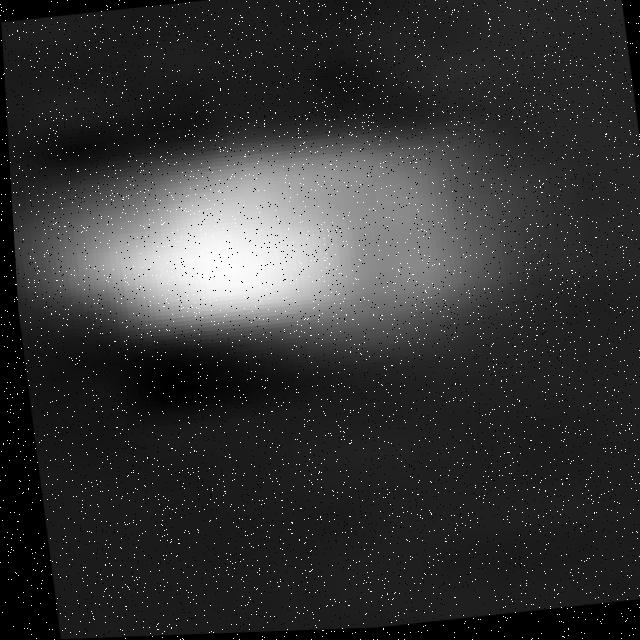person: (6, 102, 570, 397)
